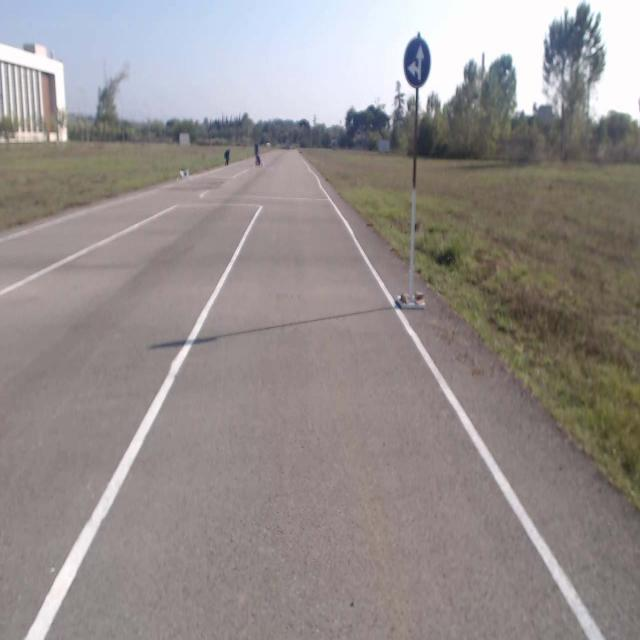ilerisol: (403, 38, 431, 86)
